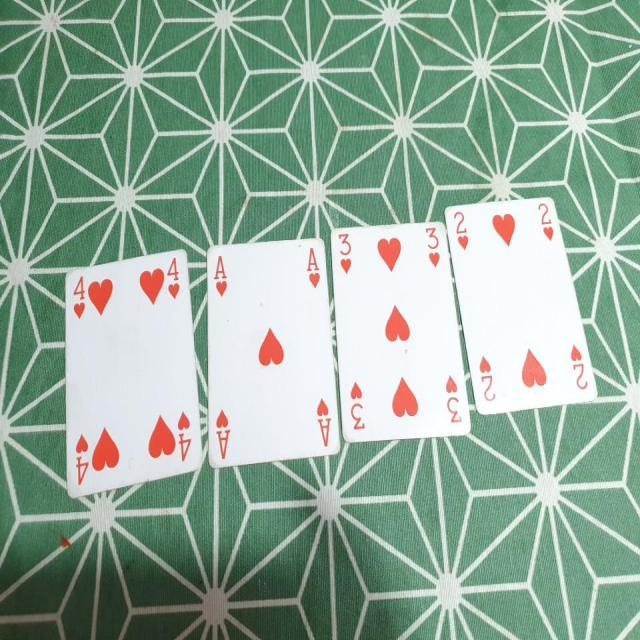2 Hearts: (443, 200, 602, 445)
3 Hearts: (326, 222, 476, 457)
4 Hearts: (62, 241, 205, 500)
A Hearts: (198, 237, 337, 472)
